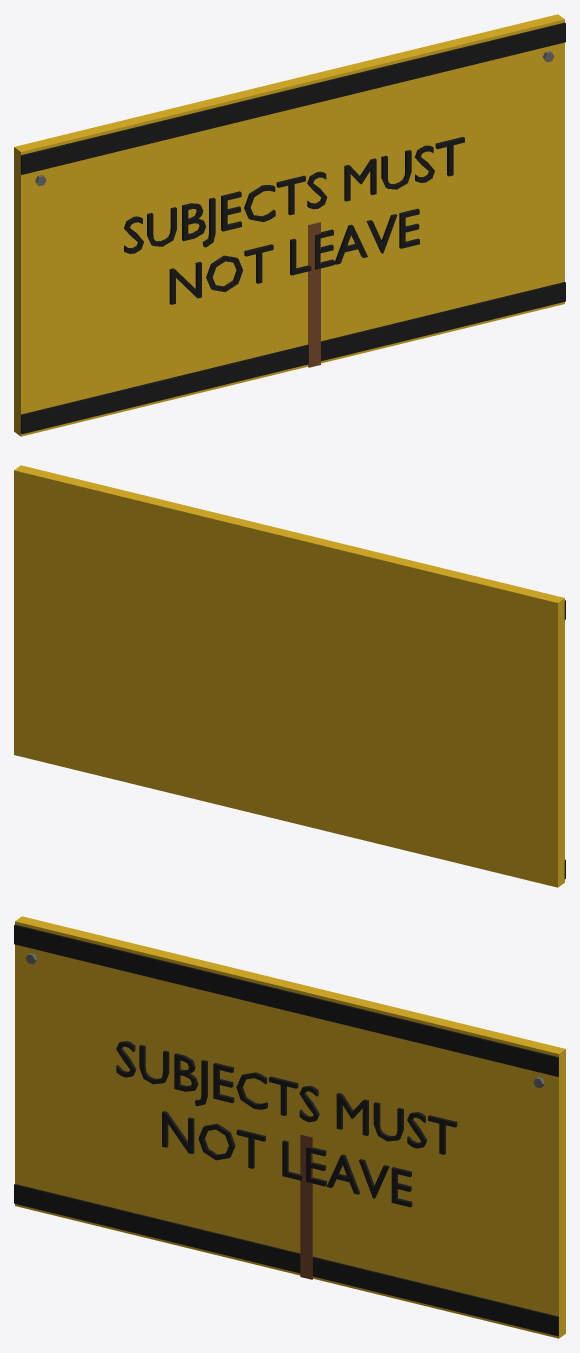
The model's file is warning_sign_subjects.glb.
3 views of the same model, one above another, from view 1: azimuth 30°, elevation 25°; view 2: azimuth 150°, elevation 25°; view 3: azimuth 330°, elevation 25° (orthographic).
Parts seen in each view (by area): view 1: warning_sign_subjects; view 2: warning_sign_subjects; view 3: warning_sign_subjects.
Part boxes in pixels (<box>): warning_sign_subjects: <box>14,14,565,436</box>; warning_sign_subjects: <box>14,465,565,887</box>; warning_sign_subjects: <box>14,916,565,1338</box>.
Bounding box in the file's own units: 0.9 × 0.45 × 0.028.
